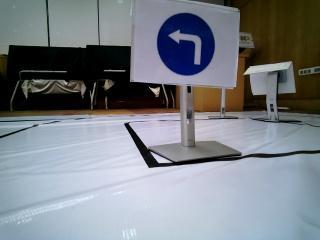left: (136, 2, 233, 85)
